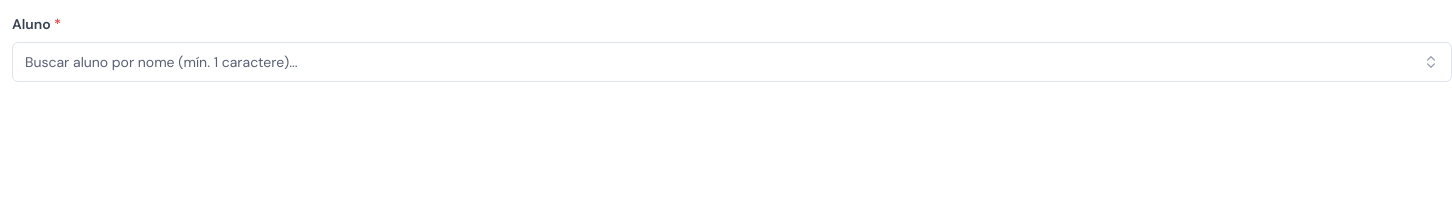
Test case: UI Tests — Gate de Papel e Seleção de Aluno (Task 14.2) › Seleção de Aluno (Req 2.1 - 2.6) › busca alunos a partir de 1 caractere digitado
The image size is (1452, 221).
Later steps or results of the test are not shown.
Type "Lu" into the field with placeholder "Buscar aluno por nome (mín. 1 caractere)..." at (720, 62), box 25,52 -> 1415,72
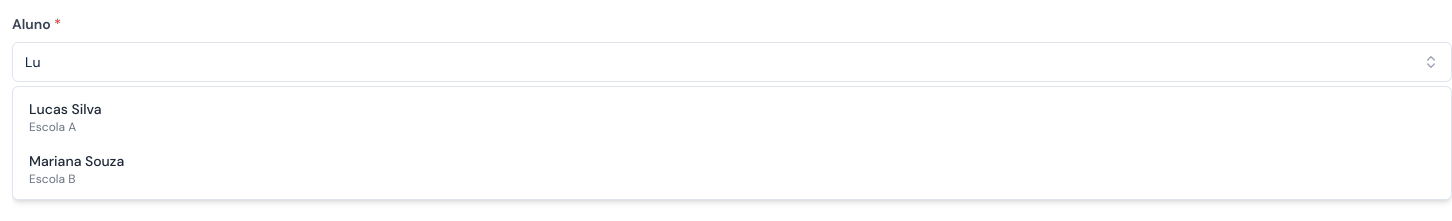
Result: the text "Lucas Silva" is shown at 29,99 -> 101,119
